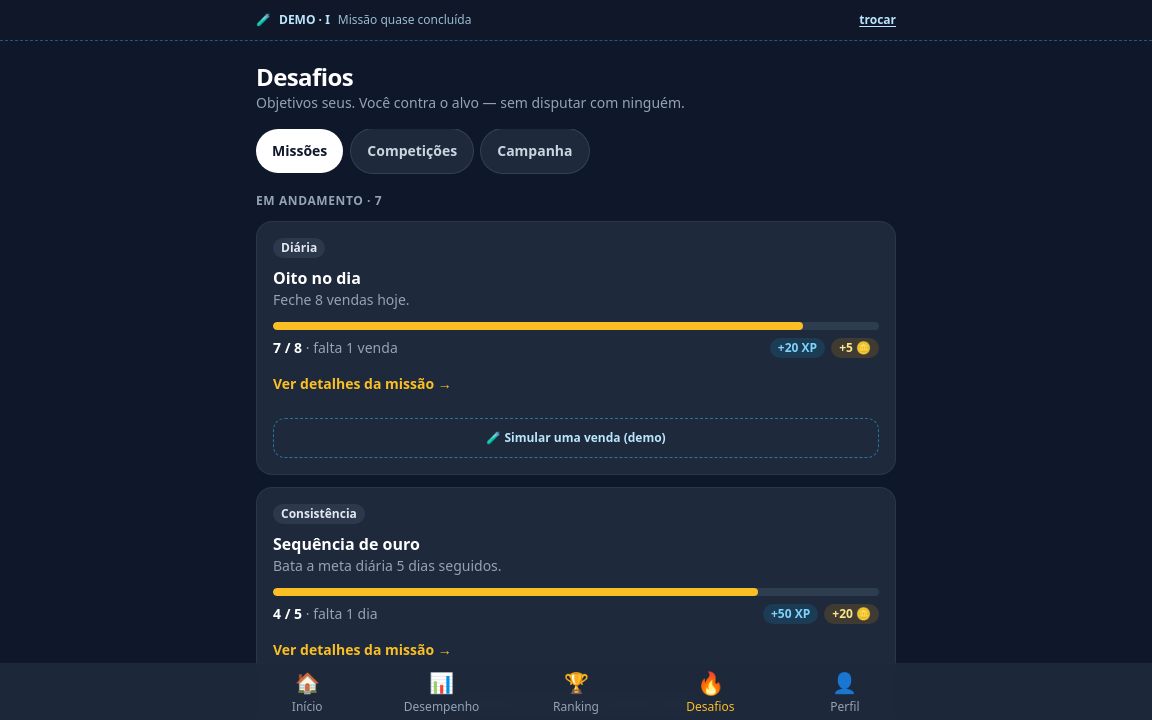
Fase 1 — vendedora › missão quase concluída (I): simular a venda conclui, celebra e credita XP
The image size is (1152, 720).
Expected: the text "Oito no dia" shows "7 / 8", x1=256 y1=221 x2=896 y2=475
Click the button "🧪 Simular uma venda (demo)" at (576, 438), box x1=273 y1=418 x2=879 y2=458
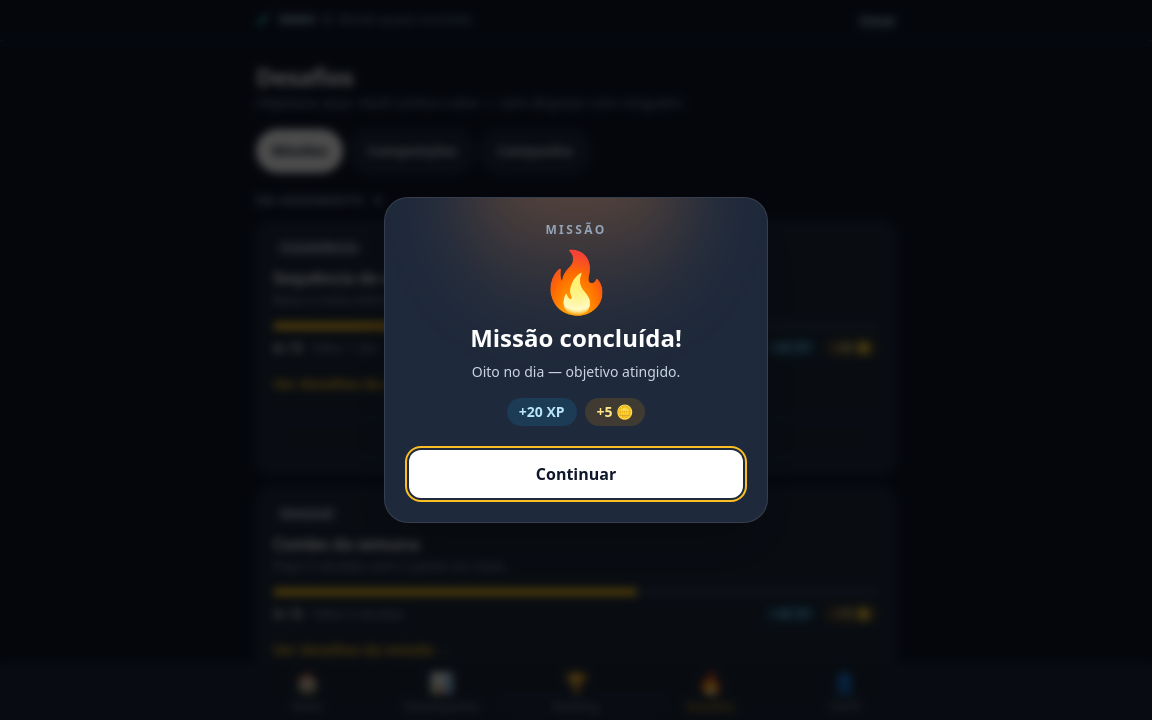
Expected: the dialog "Missão concluída!" is shown, x1=384 y1=197 x2=768 y2=523
